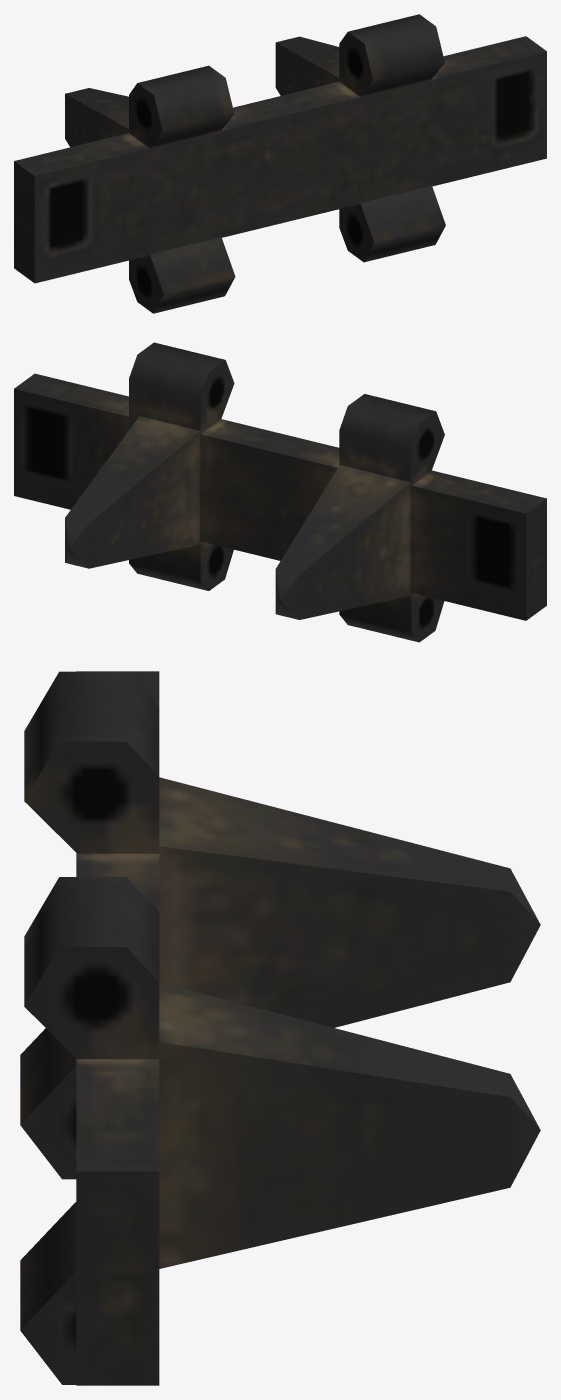
3 views of the same model, one above another, from view 1: azimuth 30°, elevation 25°; view 2: azimuth 150°, elevation 25°; view 3: azimuth 270°, elevation 25° (orthographic). The views are drawn at different scales.
Visible parts, largest first — view 1: set_0_group_0; view 2: set_0_group_0; view 3: set_0_group_0.
Part boxes in pixels (<box>): set_0_group_0: <box>14,14,546,313</box>; set_0_group_0: <box>14,342,546,642</box>; set_0_group_0: <box>20,671,540,1385</box>.
Size of the model in its own units: 0.3845 by 0.1571 by 0.1692.
Materials: 1 (1 with a texture image).
